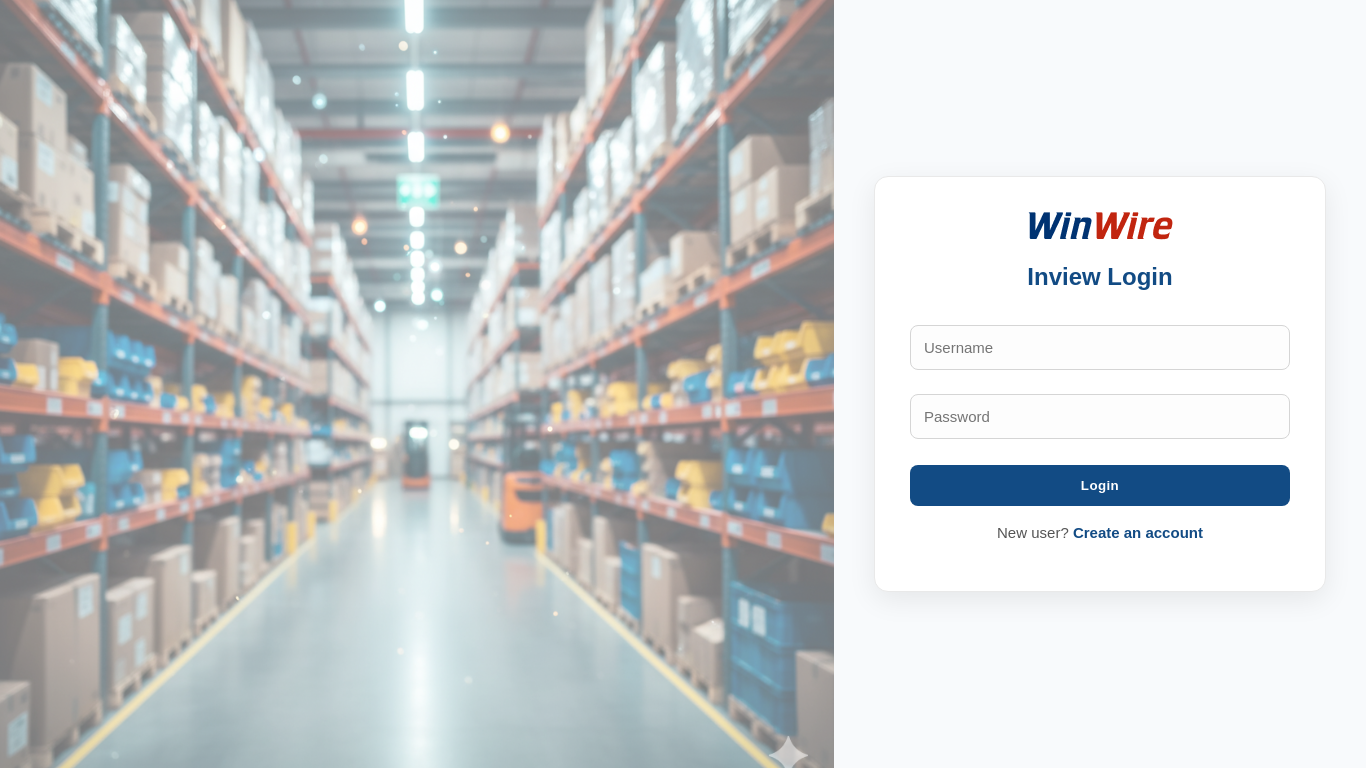
Scenario: clears error on new login attempt
Step 1. Type "user1" into the field with placeholder "Username" → coordinates (1100, 348), box [910,326,1290,370]
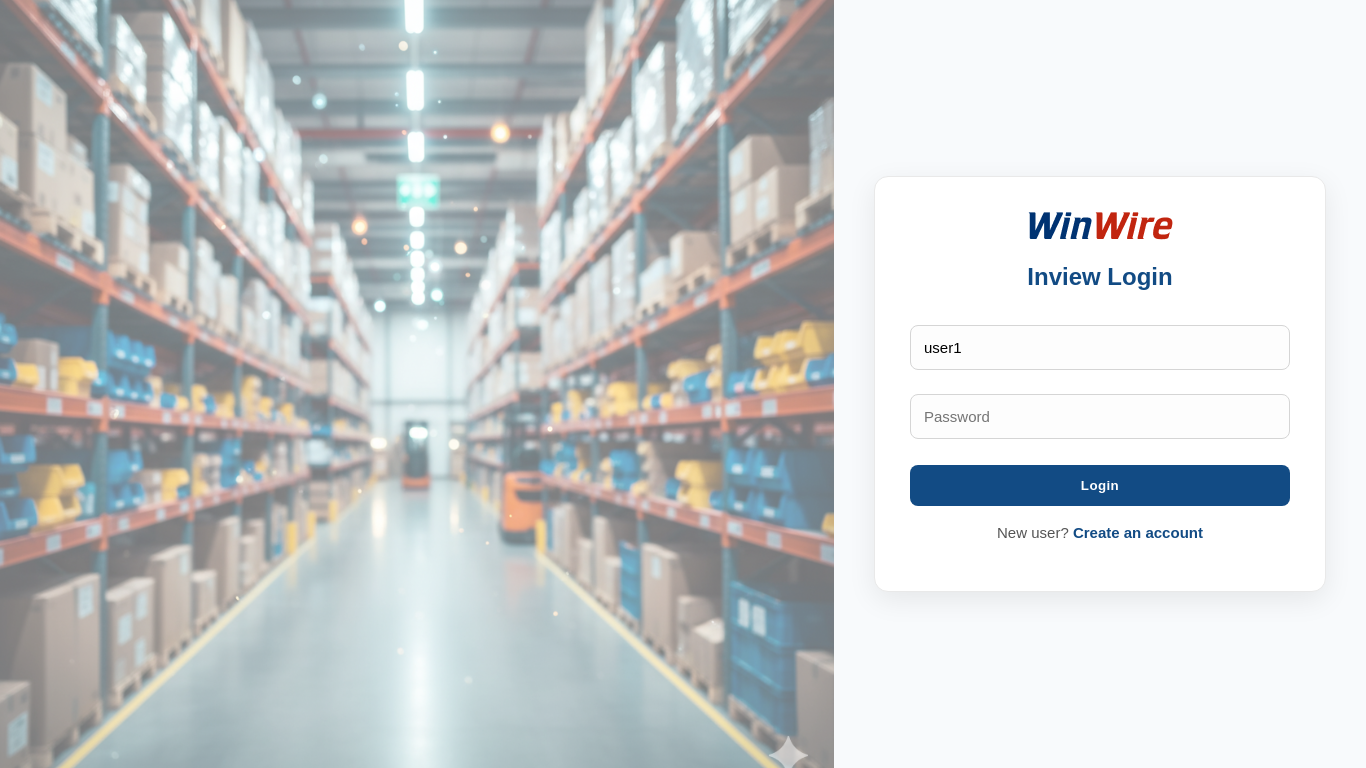
Step 2. Type "pass1" into the password field with placeholder "Password" → coordinates (1100, 417), box [910,394,1290,440]
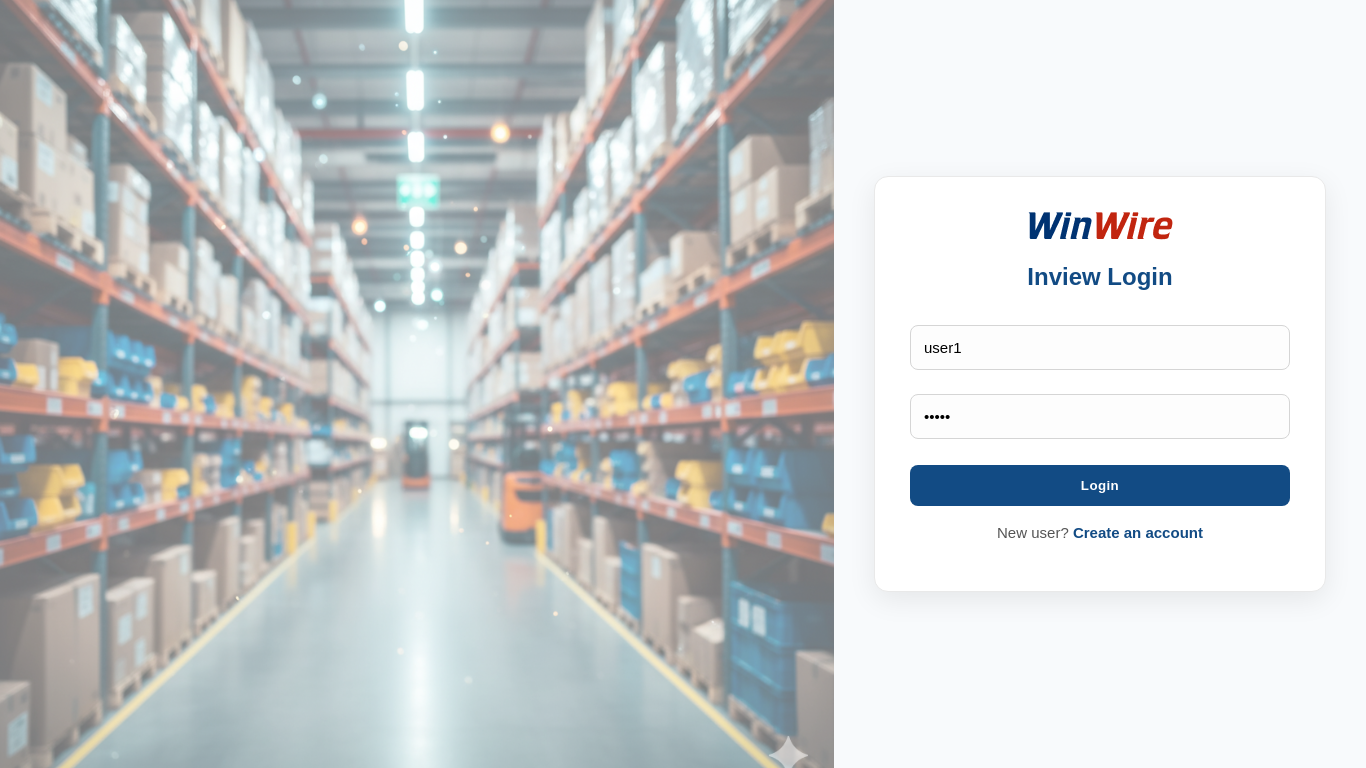
Step 3. Click the button "Login" → coordinates (1100, 486), box [910,466,1290,506]
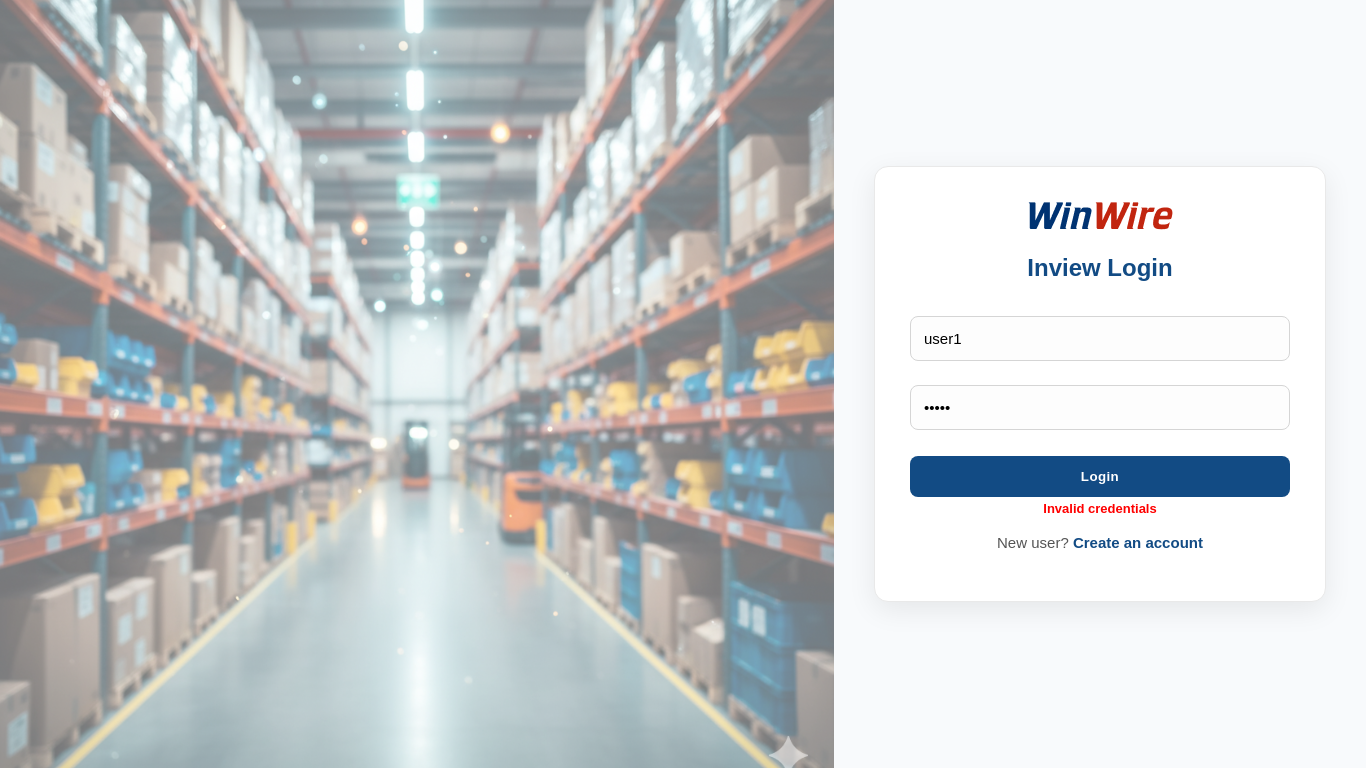
Expected: the text "Invalid credentials" is shown, [1043,501,1157,516]
Step 4. Replace the text in the field with placeholder "Username" with "admin" → coordinates (1100, 338), box [910,316,1290,361]
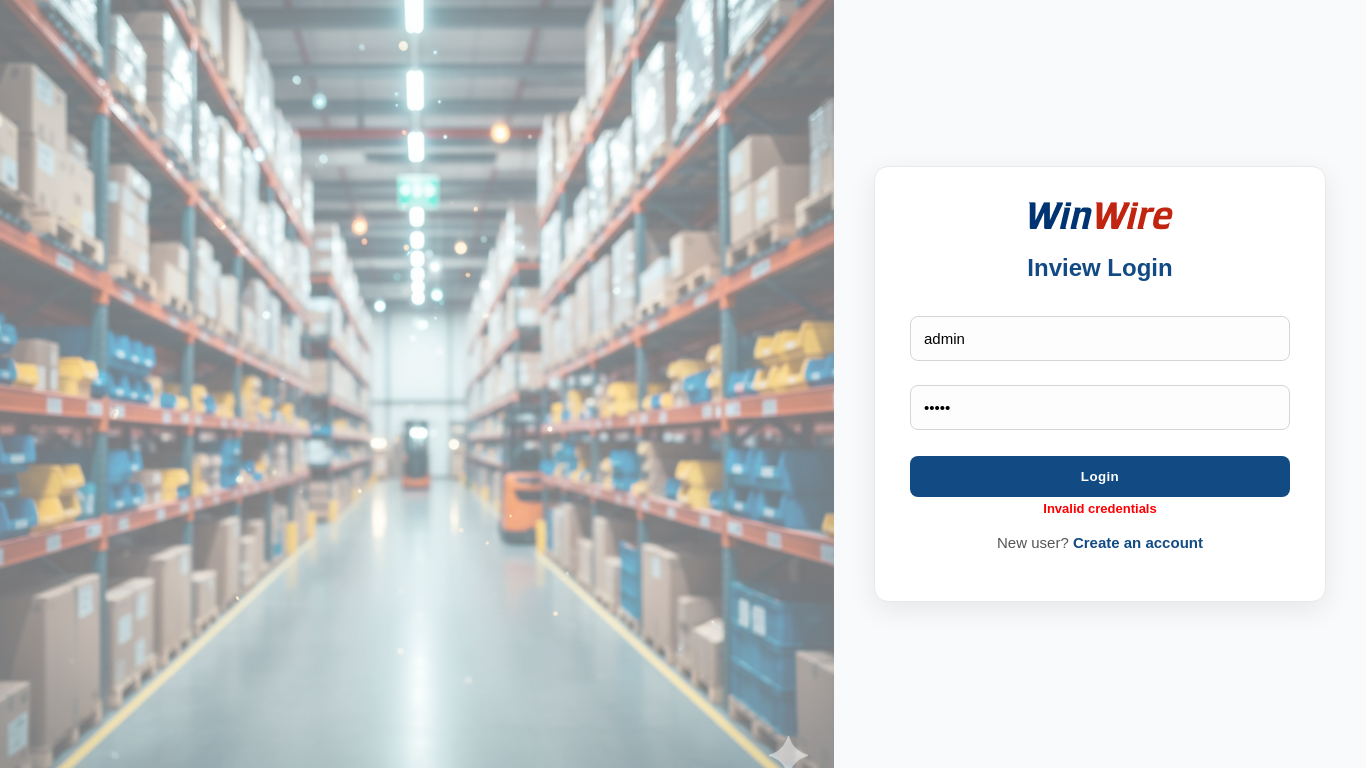
Step 5. Type "correctpass" into the password field with placeholder "Password" → coordinates (1100, 408), box [910,385,1290,430]
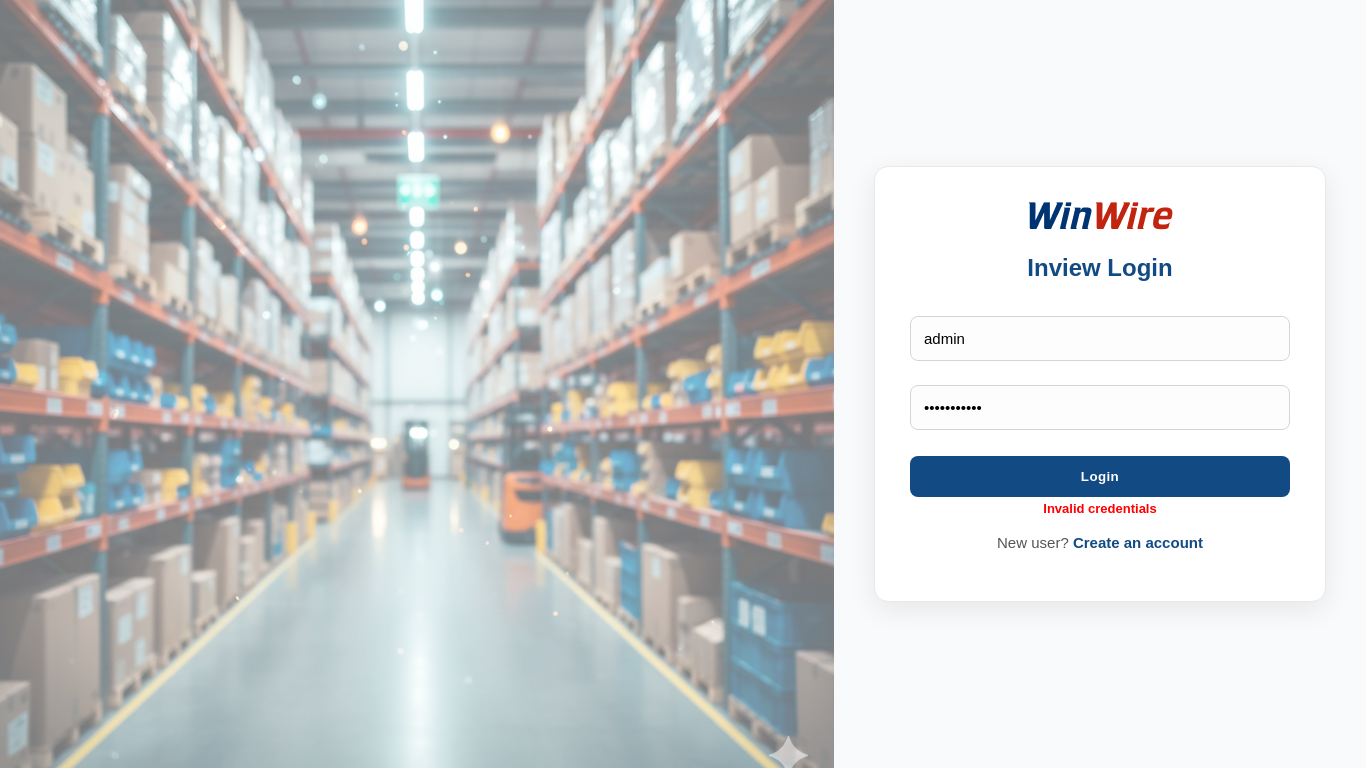
Step 6. Click the button "Login" → coordinates (1100, 476), box [910,456,1290,497]
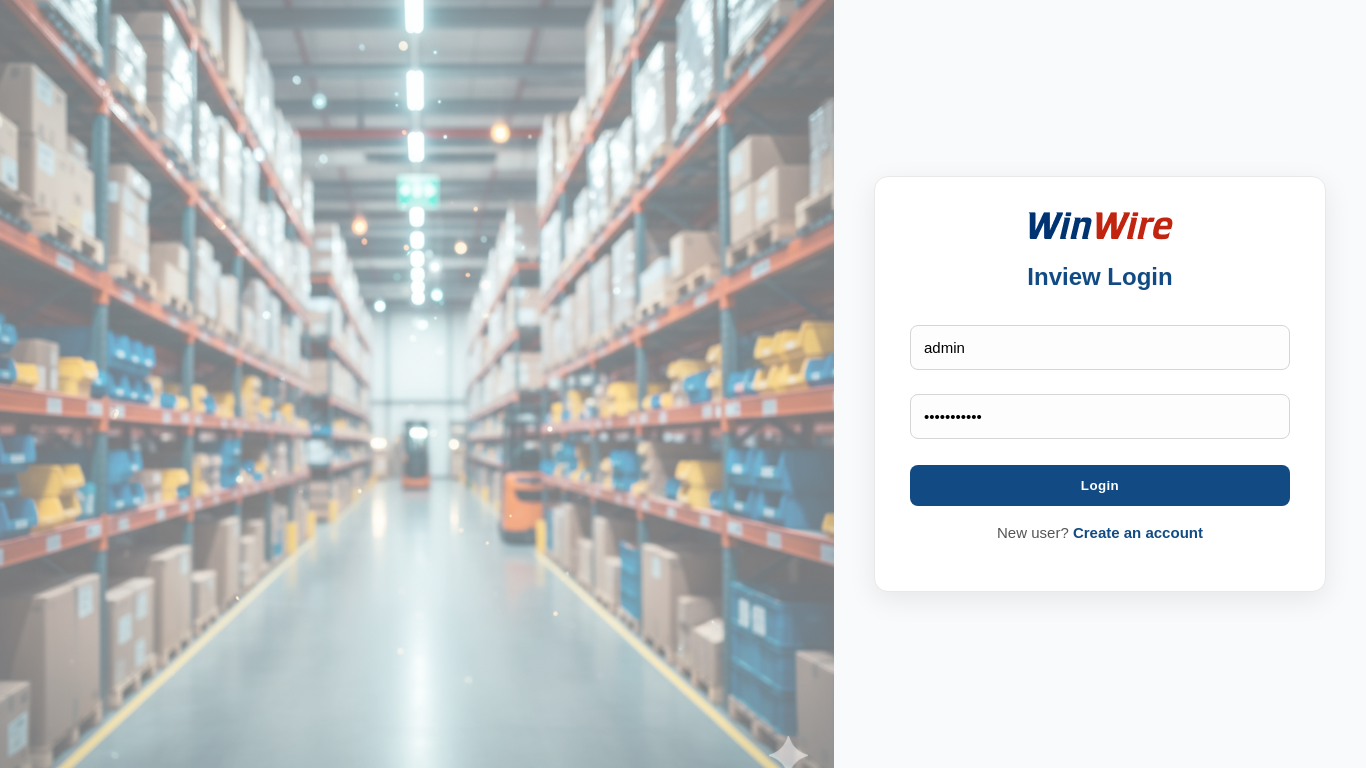
Expected: the text "Invalid credentials" is gone
